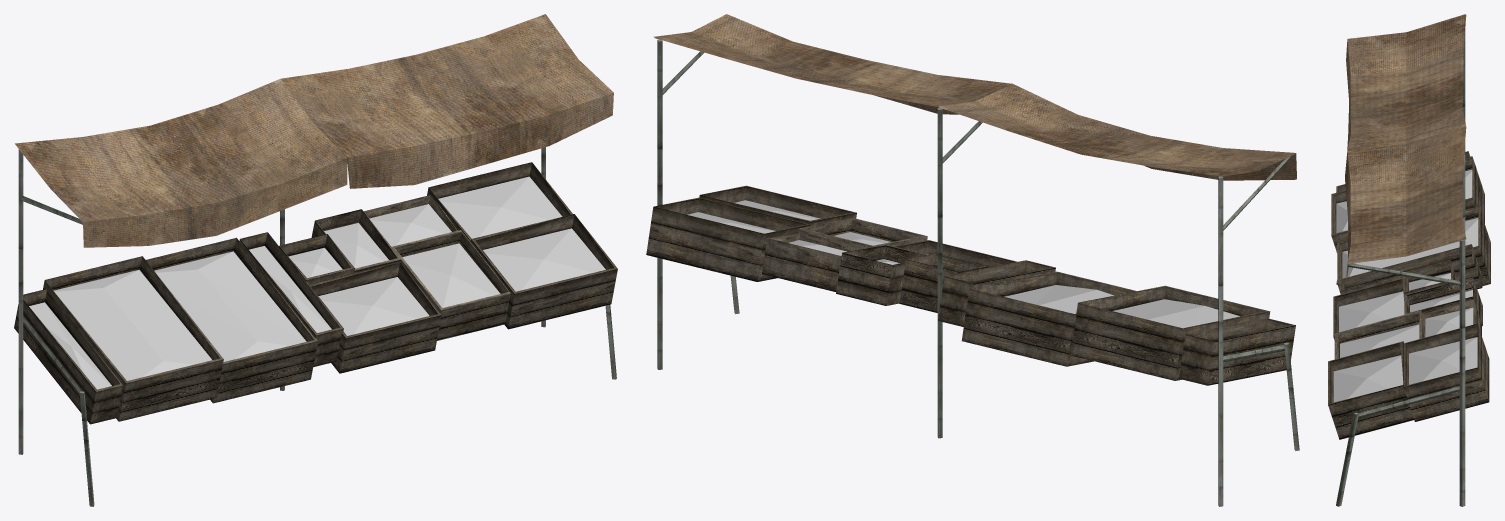
The model's file is frn_tato_fruit_stand_large_s01_l1.fbx.
3 views of the same model, side by side, from view 1: azimuth 30°, elevation 25°; view 2: azimuth 150°, elevation 25°; view 3: azimuth 270°, elevation 25° (orthographic). The views are drawn at different scales.
Visible parts, largest first — view 1: mesh_node; view 2: mesh_node; view 3: mesh_node.
Part boxes in pixels (x1=…): mesh_node: x1=14, y1=14, x2=617, y2=506; mesh_node: x1=646, y1=14, x2=1299, y2=506; mesh_node: x1=1328, y1=14, x2=1490, y2=506.
Size of the model in its own units: 5.22 by 2.91 by 1.6.
